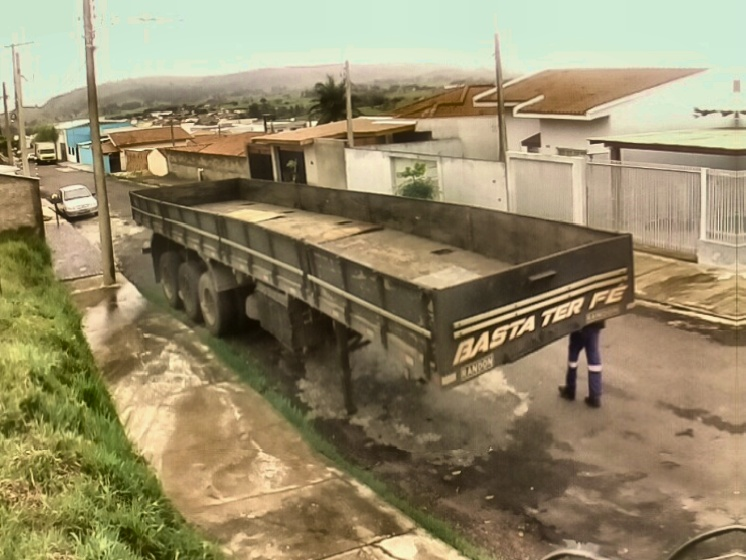person: (558, 315, 606, 408)
